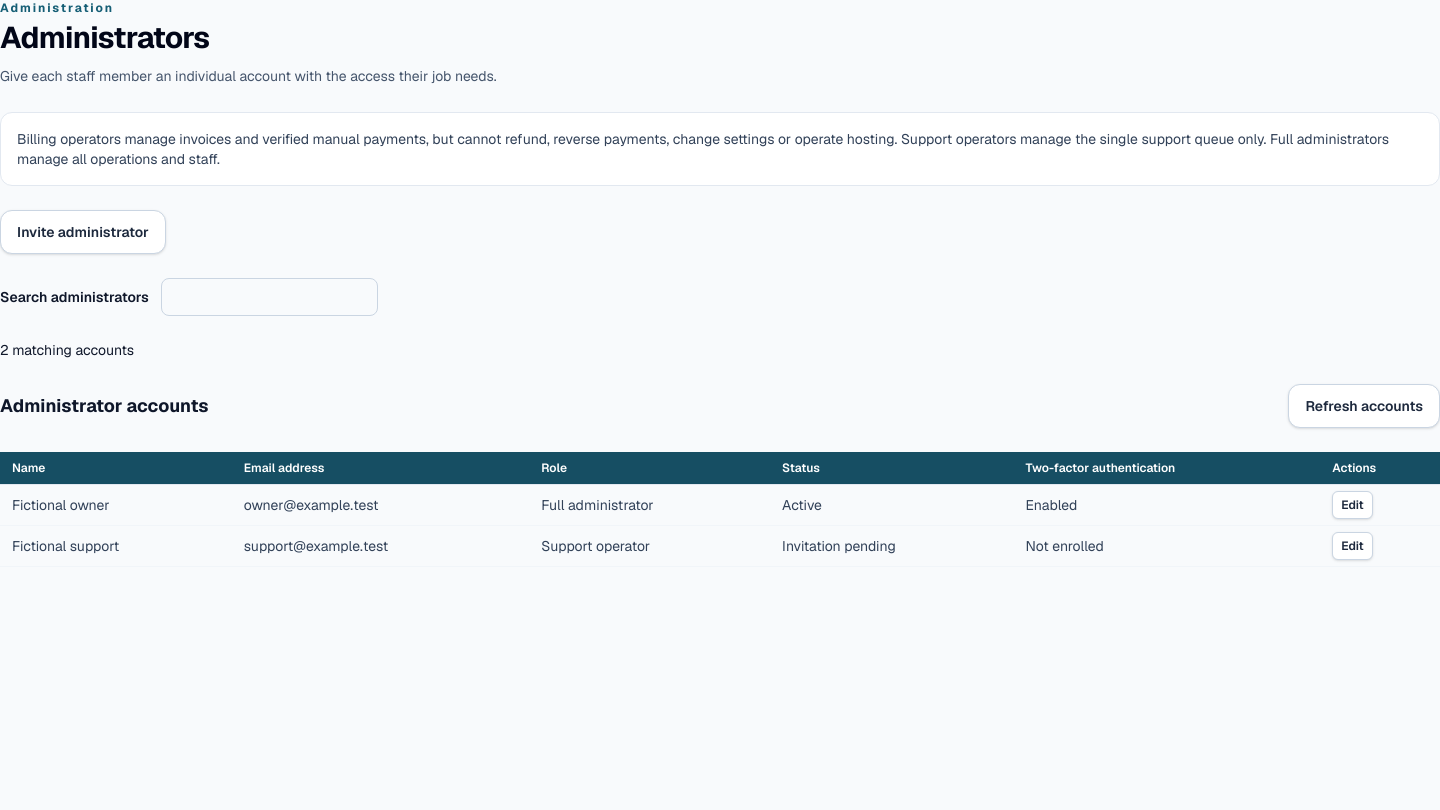
Test: administrator account management › reads without mutations and disables own access controls
Click the button named "Edit owner@example.test" at (1352, 505), box [1332, 491, 1373, 519]
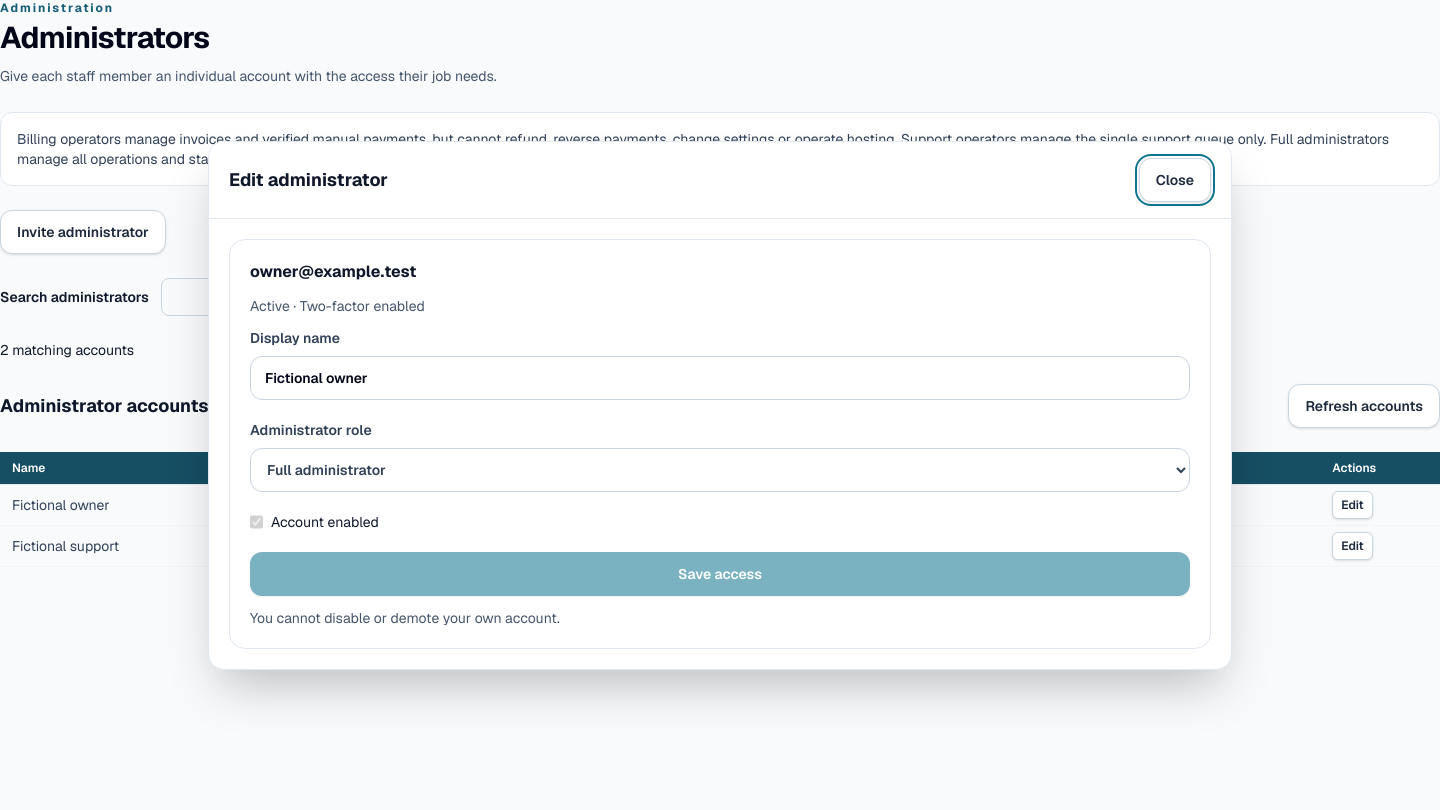
Result: the button "Save access" is disabled at [250, 552, 1190, 596]
Result: the checkbox is disabled at [250, 512, 263, 532]
Result: the text "You cannot disable or demote your own account." is shown at [250, 608, 560, 626]
